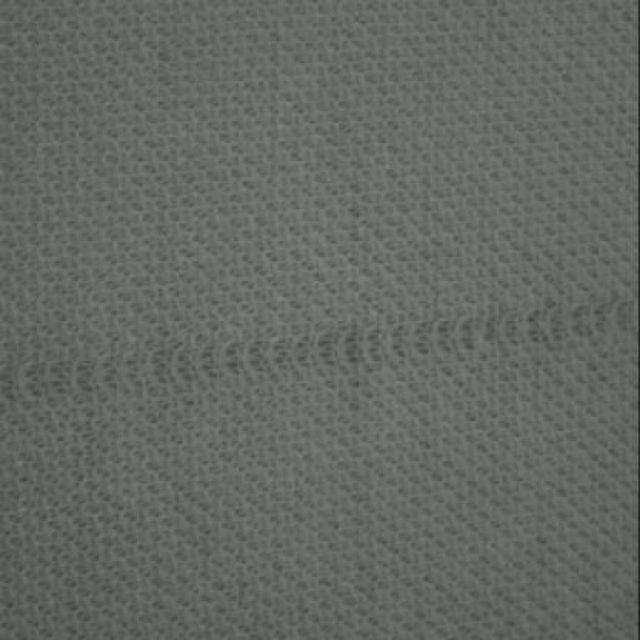Line: (0, 293, 635, 411)
